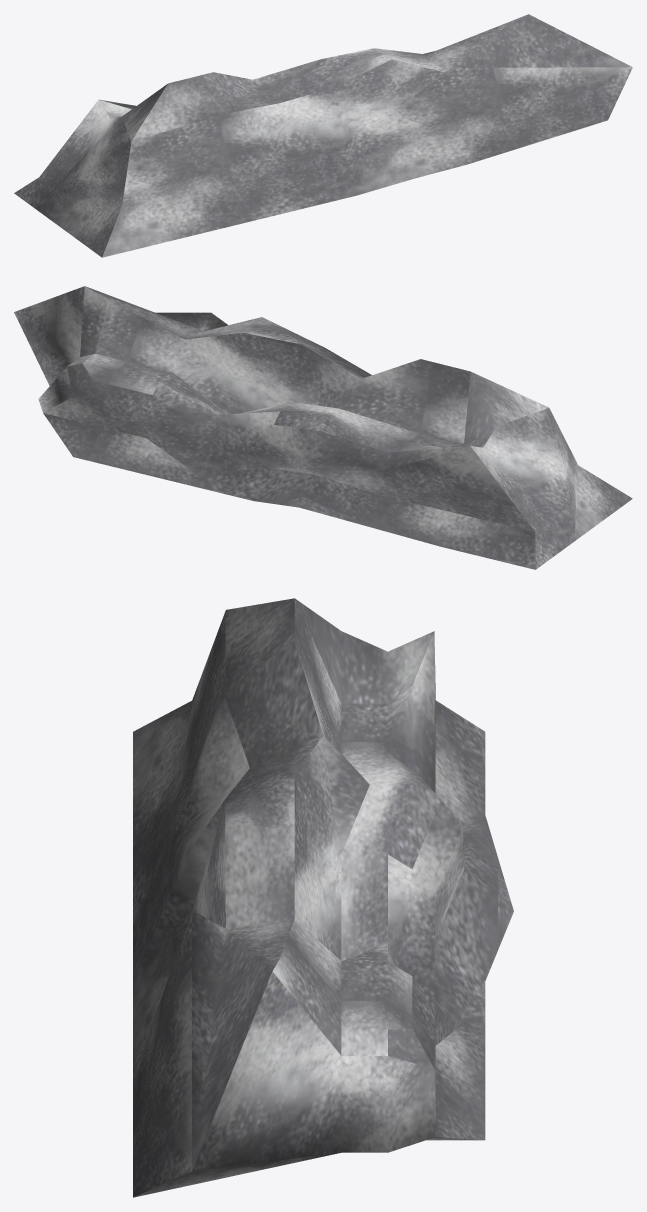
The model's file is MountainC2.FBX.
3 views of the same model, one above another, from view 1: azimuth 30°, elevation 25°; view 2: azimuth 150°, elevation 25°; view 3: azimuth 270°, elevation 25° (orthographic). The views are drawn at different scales.
Parts seen in each view (by area): view 1: MountainC2; view 2: MountainC2; view 3: MountainC2.
Boxes of the visible parts, x1=… form: MountainC2: x1=14, y1=14, x2=632, y2=257; MountainC2: x1=14, y1=286, x2=632, y2=569; MountainC2: x1=133, y1=598, x2=513, y2=1197.
Bounding box in the file's own units: 361 × 75.72 × 109.
Materials: 1 (1 with a texture image).
